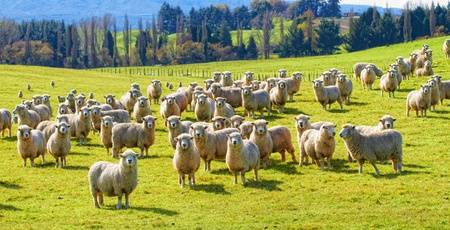sheep: (339, 121, 406, 171), (88, 149, 141, 209), (223, 132, 265, 186), (111, 115, 156, 157), (300, 123, 338, 171), (170, 133, 202, 184), (192, 123, 225, 165), (14, 124, 47, 164), (401, 82, 432, 120), (46, 122, 74, 164), (238, 85, 273, 113), (249, 122, 277, 152), (311, 78, 341, 105), (378, 67, 400, 95), (284, 70, 305, 98), (357, 64, 378, 90), (209, 84, 239, 102), (130, 96, 153, 118), (193, 92, 212, 117), (147, 78, 163, 105), (415, 59, 435, 77), (160, 96, 179, 113)
